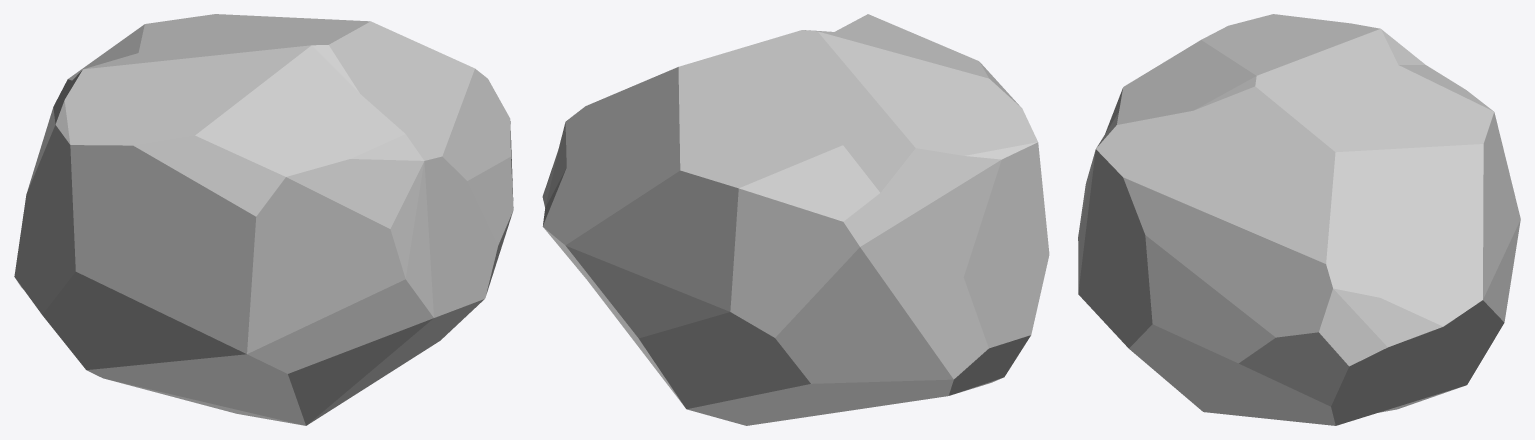
File: Wh_Rock_Big_01.fbx
The picture shows the model from 3 angles, left to right: view 1: azimuth 30°, elevation 25°; view 2: azimuth 150°, elevation 25°; view 3: azimuth 270°, elevation 25°; orthographic projection. The views are drawn at different scales.
Visible parts, largest first — view 1: LowPolyRock.013; view 2: LowPolyRock.013; view 3: LowPolyRock.013.
Part boxes in pixels (bbox=[...]): LowPolyRock.013: bbox=[14, 14, 513, 425]; LowPolyRock.013: bbox=[542, 14, 1049, 425]; LowPolyRock.013: bbox=[1078, 14, 1520, 425].
Bounding box in the file's own units: 2338 × 1633 × 1961.
